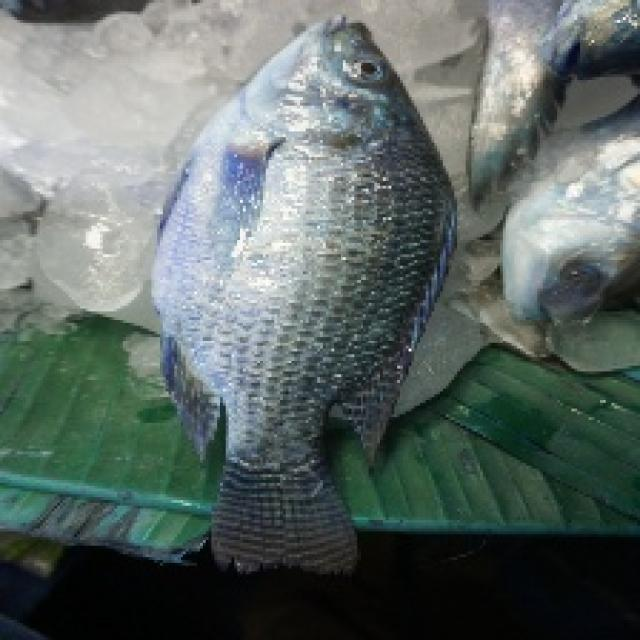Fresh: (140, 2, 480, 435)
